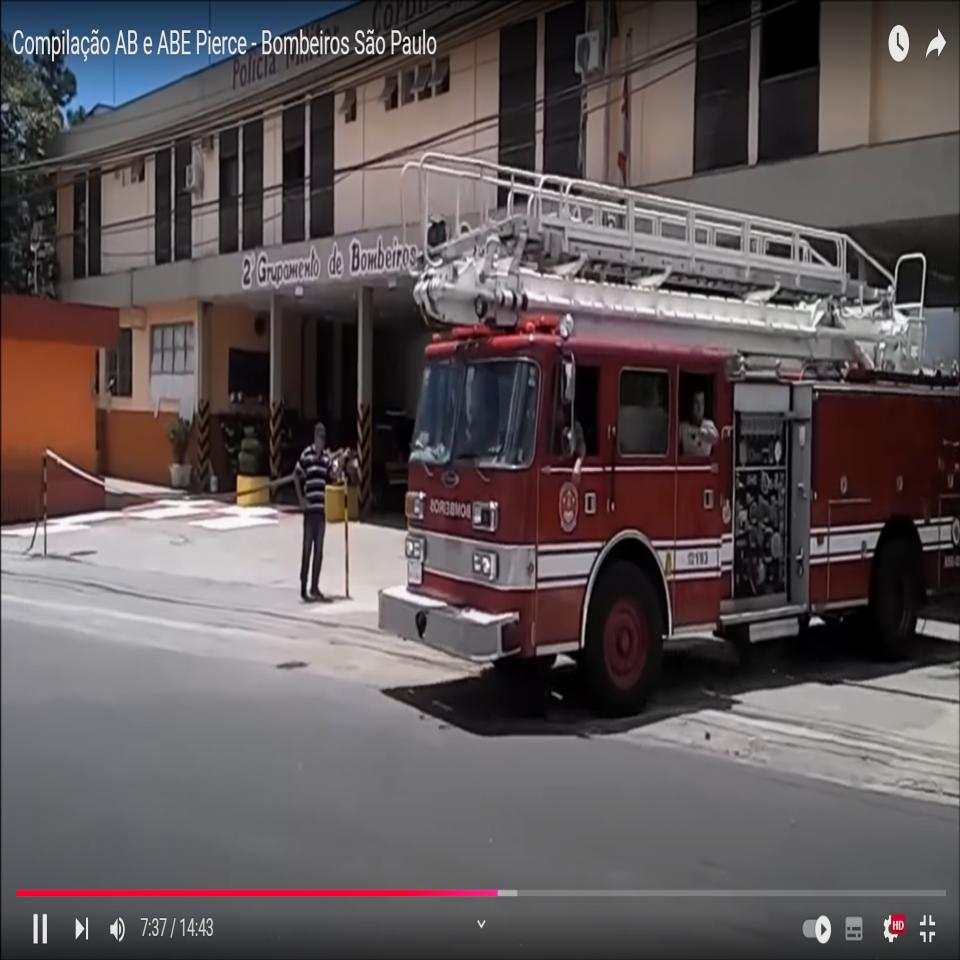bombeiro: (398, 143, 960, 724)
